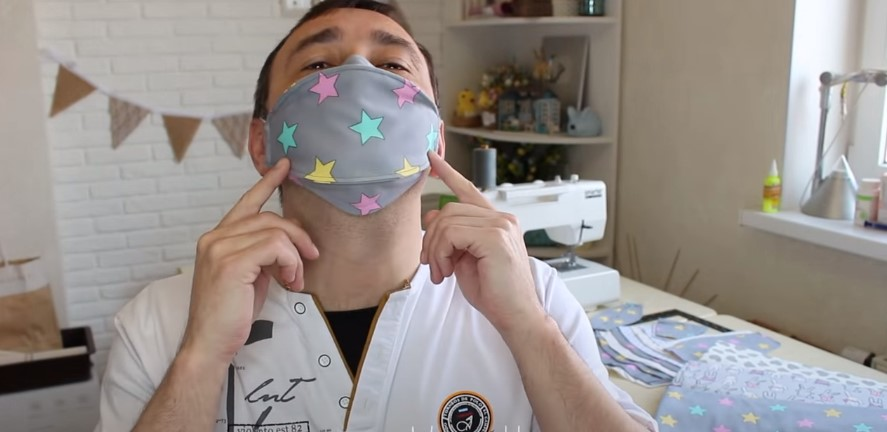face_with_mask: (245, 7, 458, 226)
